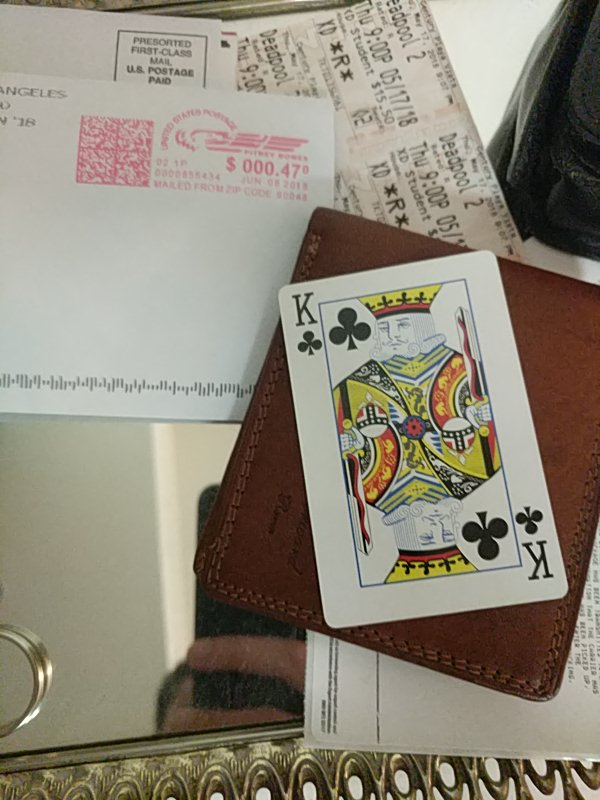Clubs: (276, 248, 570, 634)
